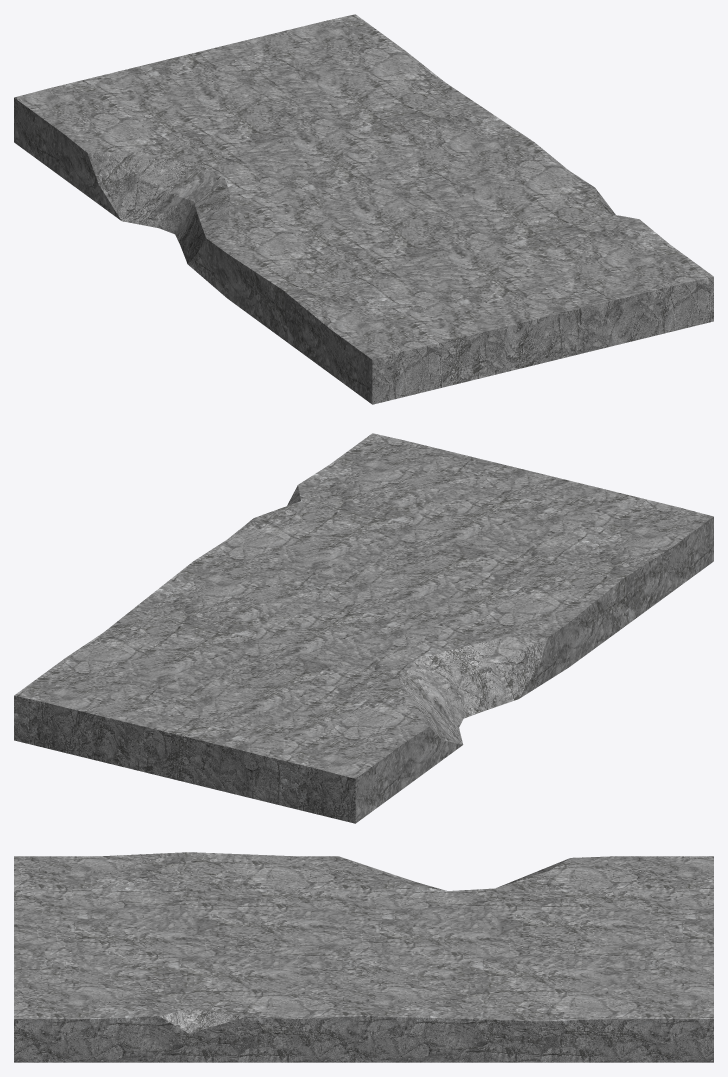
Rendered from materials_3_road_9.fbx.
3 views of the same model, one above another, from view 1: azimuth 30°, elevation 25°; view 2: azimuth 150°, elevation 25°; view 3: azimuth 270°, elevation 25° (orthographic). The views are drawn at different scales.
Parts seen in each view (by area): view 1: materials_3_road_9; view 2: materials_3_road_9; view 3: materials_3_road_9.
Boxes of the visible parts, left/top/right/bottom form: materials_3_road_9: left=14, top=14, right=713, bottom=404; materials_3_road_9: left=14, top=433, right=713, bottom=823; materials_3_road_9: left=14, top=852, right=713, bottom=1062.
Bounding box in the file's own units: 234 × 32.09 × 425.
